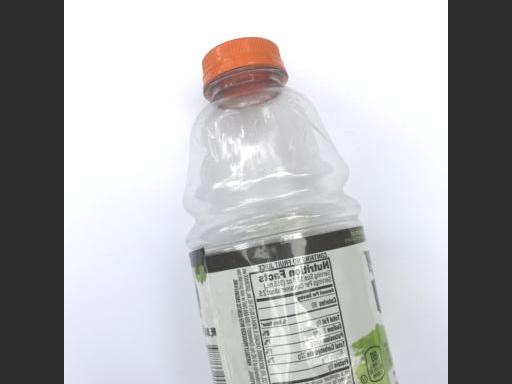bottle: (173, 35, 405, 384)
